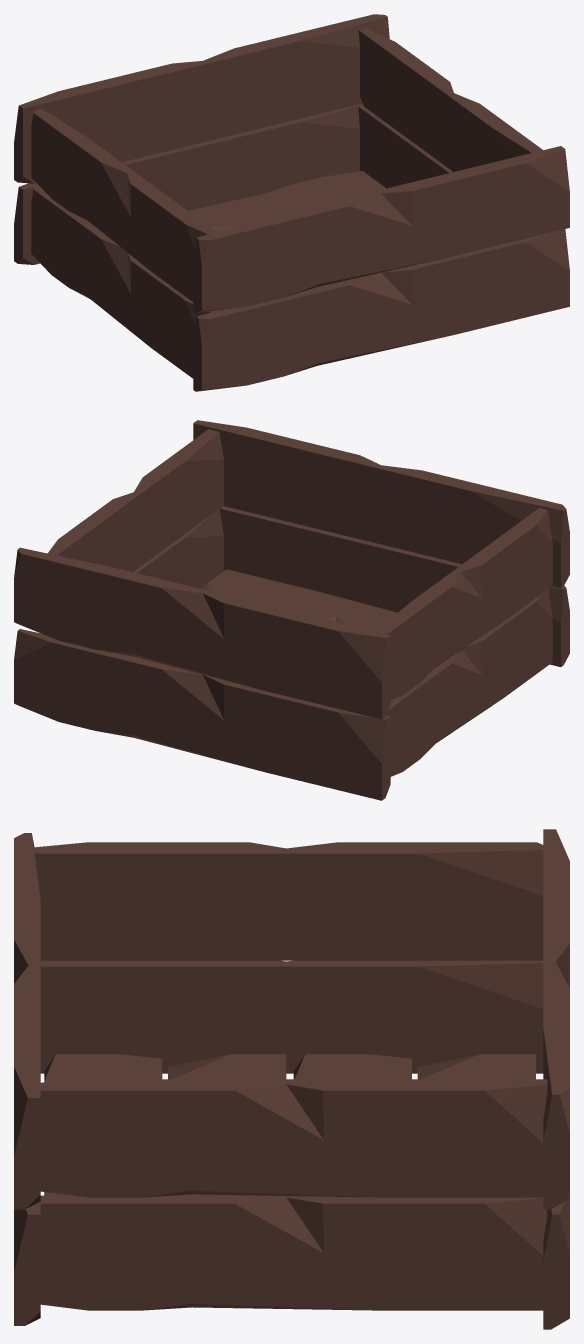
Rendered from EmptyBox.fbx.
The picture shows the model from 3 angles, top to bottom: view 1: azimuth 30°, elevation 25°; view 2: azimuth 150°, elevation 25°; view 3: azimuth 270°, elevation 25°; orthographic projection. The views are drawn at different scales.
Visible parts, largest first — view 1: WoodenBox; view 2: WoodenBox; view 3: WoodenBox.
Part boxes in pixels (<box>): WoodenBox: <box>14,14,569,391</box>; WoodenBox: <box>14,420,569,800</box>; WoodenBox: <box>14,829,569,1329</box>.
Size of the model in its own units: 172 by 71.04 by 152.
